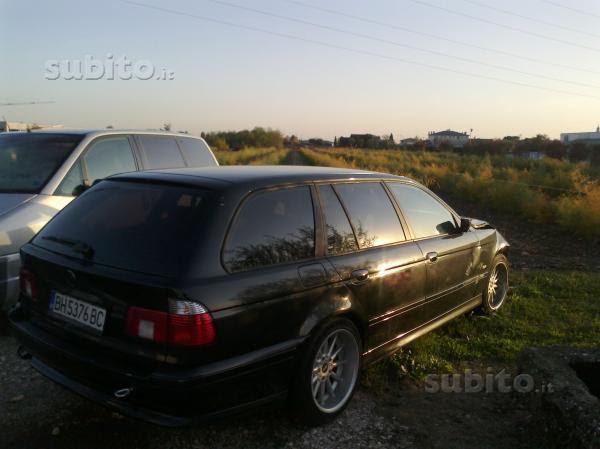car: (0, 123, 544, 432)
